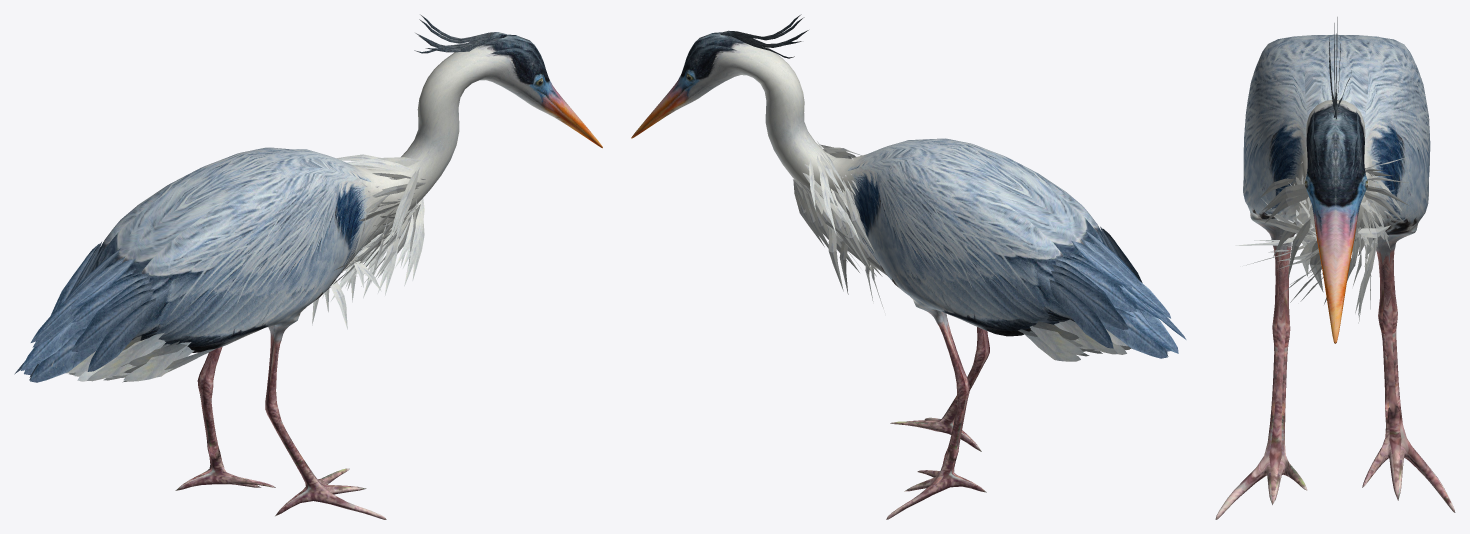
3 renders of one model, left to right at view 1: azimuth 30°, elevation 25°; view 2: azimuth 150°, elevation 25°; view 3: azimuth 270°, elevation 25°, orthographic. The views are drawn at different scales.
Parts seen in each view (by area): view 1: Cube, Plane.010, Plane.007, Plane.008, Plane.062, Plane.004, Plane.023, Plane.055; view 2: Cube, Plane.004, Plane.101, Plane.009, Plane.007, Plane.054; view 3: Cube, Plane.111, Plane.183, Plane.230, Plane.158, Plane.223.
Part boxes in pixels (bbox=[...]): Cube: bbox=[92, 34, 602, 519]; Plane.010: bbox=[24, 269, 156, 382]; Plane.007: bbox=[30, 256, 125, 342]; Plane.008: bbox=[20, 319, 89, 370]; Plane.062: bbox=[87, 332, 164, 381]; Plane.004: bbox=[29, 242, 109, 380]; Plane.023: bbox=[123, 342, 191, 381]; Plane.055: bbox=[70, 258, 135, 309]; Cube: bbox=[631, 32, 1104, 519]; Plane.004: bbox=[1049, 252, 1170, 358]; Plane.101: bbox=[1018, 319, 1131, 361]; Plane.009: bbox=[1122, 303, 1178, 353]; Plane.007: bbox=[1081, 239, 1170, 318]; Plane.054: bbox=[1071, 240, 1131, 288]; Cube: bbox=[1215, 34, 1455, 519]; Plane.111: bbox=[1262, 184, 1307, 210]; Plane.183: bbox=[1288, 219, 1310, 278]; Plane.230: bbox=[1309, 240, 1323, 292]; Plane.158: bbox=[1264, 193, 1308, 223]; Plane.223: bbox=[1255, 219, 1311, 235].
Size of the model in its own units: 5.19 by 3.98 by 1.49.
1 material, 1 textured.
